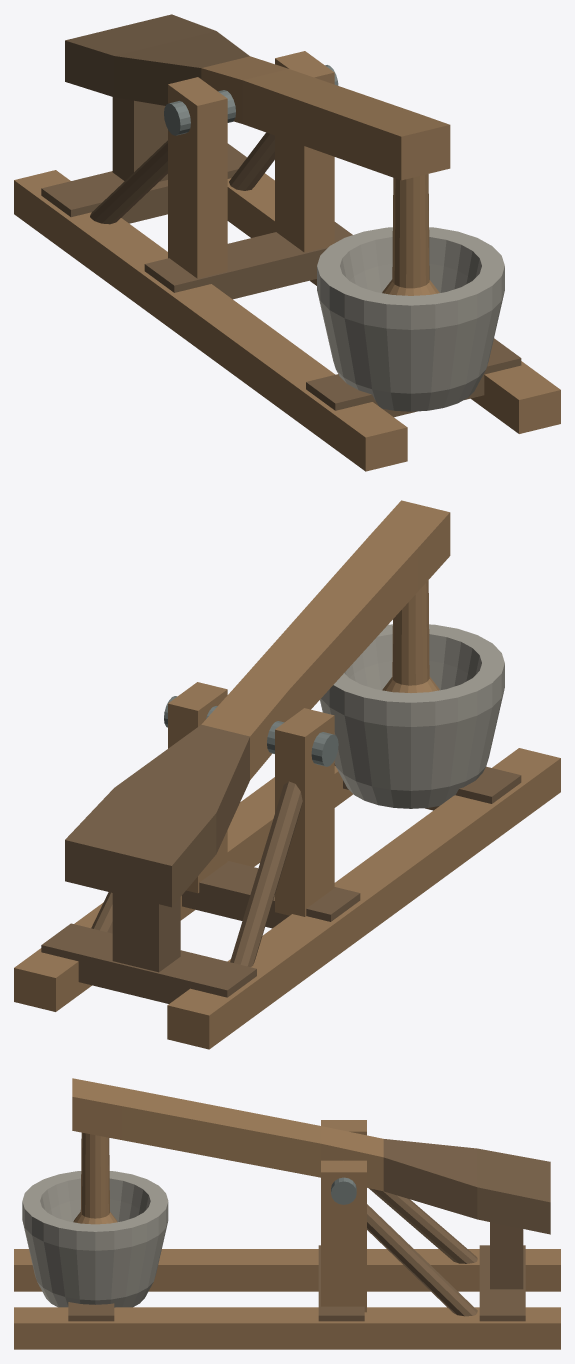
3 views of the same model, one above another, from view 1: azimuth 30°, elevation 25°; view 2: azimuth 150°, elevation 25°; view 3: azimuth 270°, elevation 25° (orthographic). The views are drawn at different scales.
Visible parts, largest first — view 1: WholeUnequalInclinedBeamAndBroadRearFootPaddle, WholeGroundedThickBlindMortar, WholeLongGroundSill0, WholeShortFulcrumCheek0, WholeShortFulcrumCheek1, WholeLongGroundSill1, WholeTransverseBaseTie1, WholeHangingTimberPestleAndBroadLowerHead, WholeTransverseBaseTie2, WholeRearFixedLimitStop, WholeTransverseBaseTie0, WholeDiagonalCheekBrace0 (+2 smaller); view 2: WholeUnequalInclinedBeamAndBroadRearFootPaddle, WholeLongGroundSill0, WholeGroundedThickBlindMortar, WholeShortFulcrumCheek0, WholeTransverseBaseTie2, WholeLongGroundSill1, WholeRearFixedLimitStop, WholeDiagonalCheekBrace0, WholeTransverseBaseTie1, WholeHangingTimberPestleAndBroadLowerHead, WholeShortFulcrumCheek1, WholeTransverseBaseTie0 (+1 smaller); view 3: WholeUnequalInclinedBeamAndBroadRearFootPaddle, WholeLongGroundSill1, WholeGroundedThickBlindMortar, WholeLongGroundSill0, WholeShortFulcrumCheek1, WholeDiagonalCheekBrace1, WholeHangingTimberPestleAndBroadLowerHead, WholeRearFixedLimitStop, WholeTransverseBaseTie2, WholeDiagonalCheekBrace0, WholeTransverseBaseTie1, WholeTransverseBaseTie0 (+2 smaller).
Part boxes in pixels (box(x1,y1,x2,y2)): WholeUnequalInclinedBeamAndBroadRearFootPaddle: box(65, 14, 450, 180); WholeGroundedThickBlindMortar: box(317, 227, 504, 411); WholeLongGroundSill0: box(14, 170, 407, 471); WholeShortFulcrumCheek0: box(168, 77, 227, 278); WholeShortFulcrumCheek1: box(275, 51, 334, 252); WholeLongGroundSill1: box(227, 173, 560, 433); WholeTransverseBaseTie1: box(144, 222, 352, 299); WholeHangingTimberPestleAndBroadLowerHead: box(382, 174, 439, 295); WholeTransverseBaseTie2: box(41, 143, 246, 223); WholeRearFixedLimitStop: box(112, 97, 167, 181); WholeTransverseBaseTie0: box(306, 338, 521, 417); WholeDiagonalCheekBrace0: box(90, 140, 167, 224); WholeUnequalInclinedBeamAndBroadRearFootPaddle: box(65, 500, 450, 907); WholeLongGroundSill0: box(167, 748, 560, 1049); WholeGroundedThickBlindMortar: box(320, 624, 504, 808); WholeShortFulcrumCheek0: box(275, 708, 334, 916); WholeTransverseBaseTie2: box(41, 923, 256, 1003); WholeLongGroundSill1: box(14, 766, 353, 1011); WholeRearFixedLimitStop: box(112, 893, 180, 972); WholeDiagonalCheekBrace0: box(230, 781, 302, 966); WholeTransverseBaseTie1: box(182, 861, 360, 928); WholeHangingTimberPestleAndBroadLowerHead: box(382, 580, 439, 692); WholeShortFulcrumCheek1: box(168, 682, 227, 893); WholeTransverseBaseTie0: box(334, 763, 521, 810); WholeUnequalInclinedBeamAndBroadRearFootPaddle: box(72, 1078, 550, 1234); WholeLongGroundSill1: box(14, 1307, 560, 1349); WholeGroundedThickBlindMortar: box(22, 1171, 168, 1307); WholeLongGroundSill0: box(14, 1249, 560, 1291); WholeShortFulcrumCheek1: box(321, 1160, 366, 1312); WholeDiagonalCheekBrace1: box(367, 1204, 477, 1316); WholeHangingTimberPestleAndBroadLowerHead: box(73, 1132, 117, 1224); WholeRearFixedLimitStop: box(490, 1222, 523, 1289); WholeTransverseBaseTie2: box(479, 1245, 525, 1321); WholeDiagonalCheekBrace0: box(369, 1188, 477, 1263); WholeTransverseBaseTie1: box(318, 1245, 364, 1321); WholeTransverseBaseTie0: box(68, 1302, 114, 1321).
Bounding box in the file's own units: 0.84 × 1.19 × 2.62.
